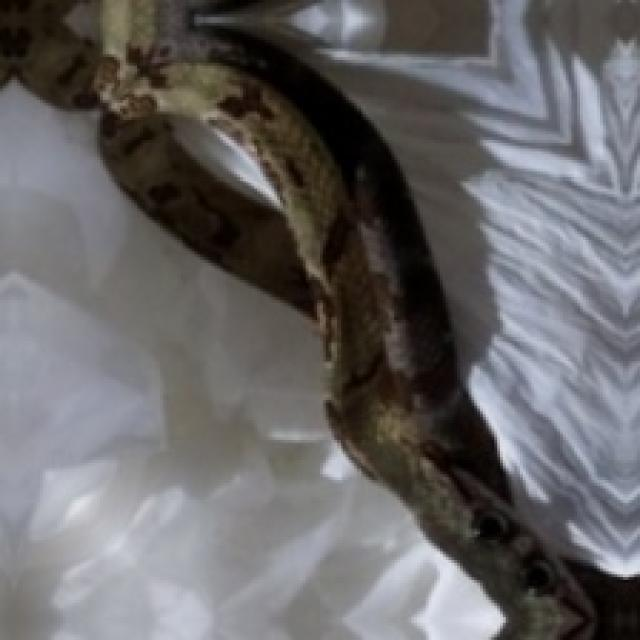dog-toothed cat snake: (100, 0, 637, 637)
